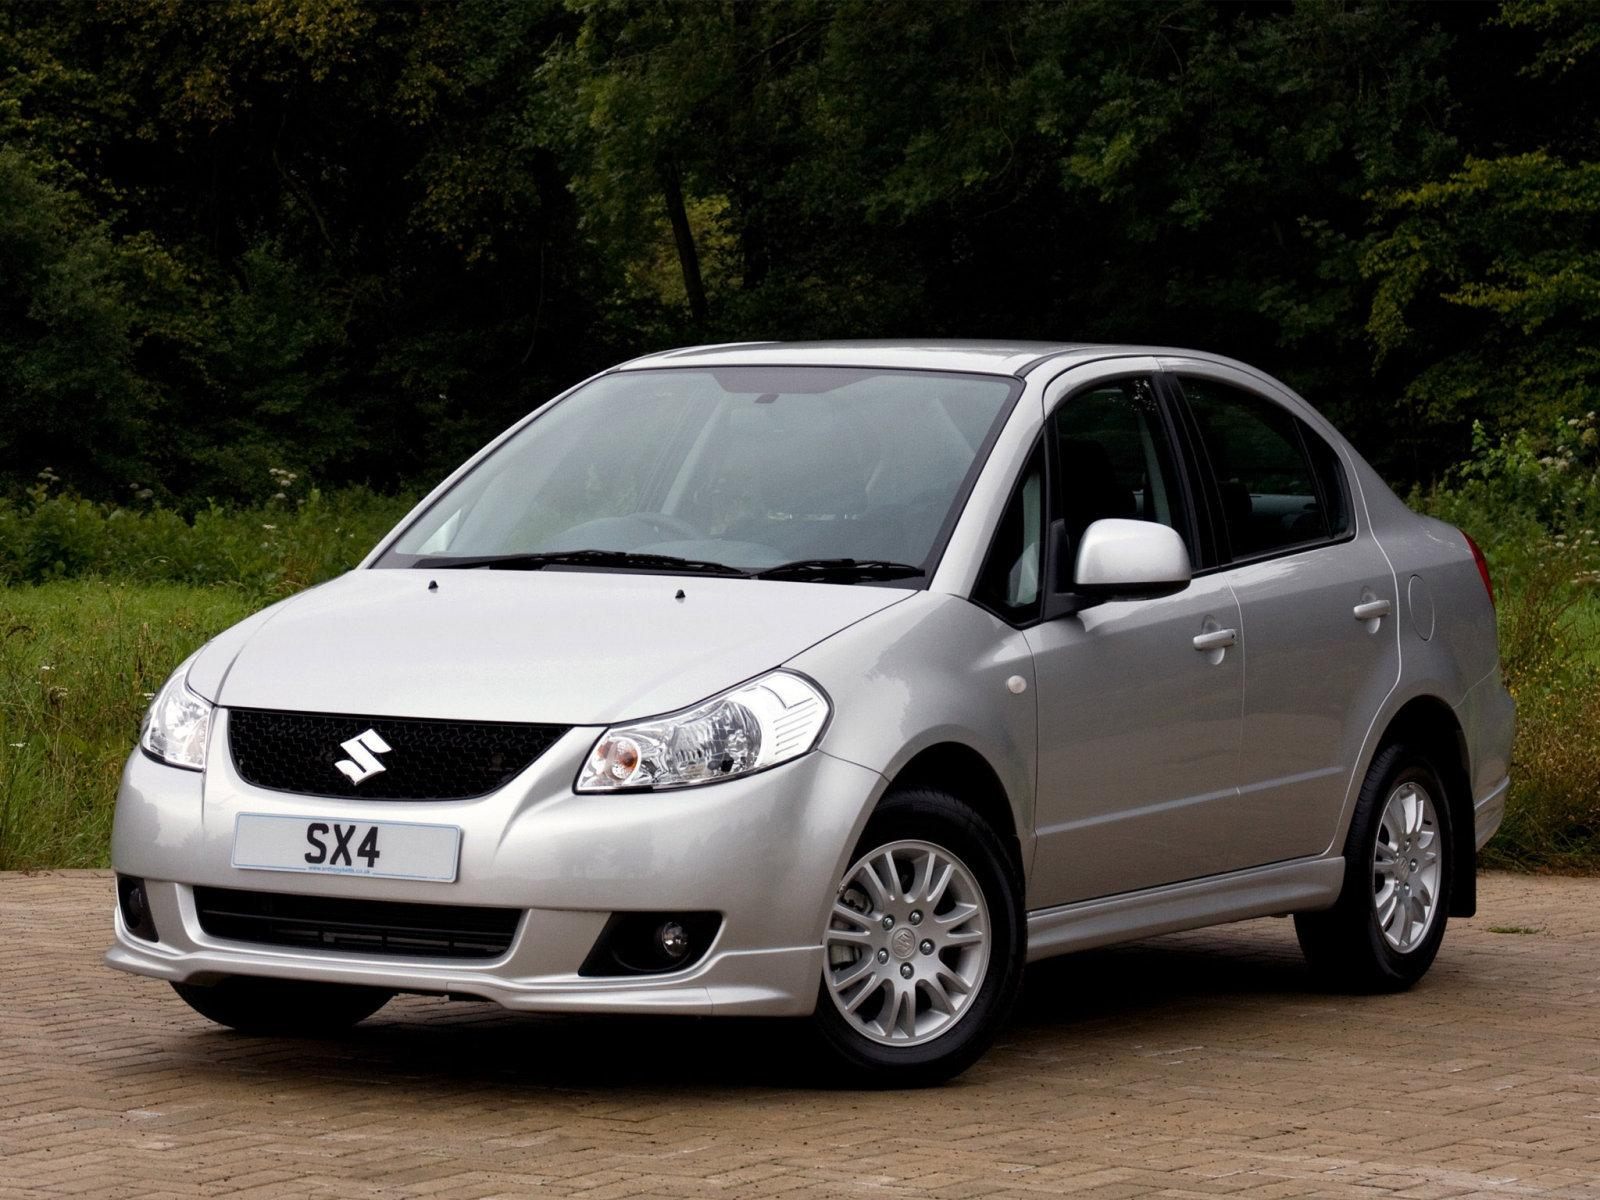suzuki: (315, 724, 423, 794)
